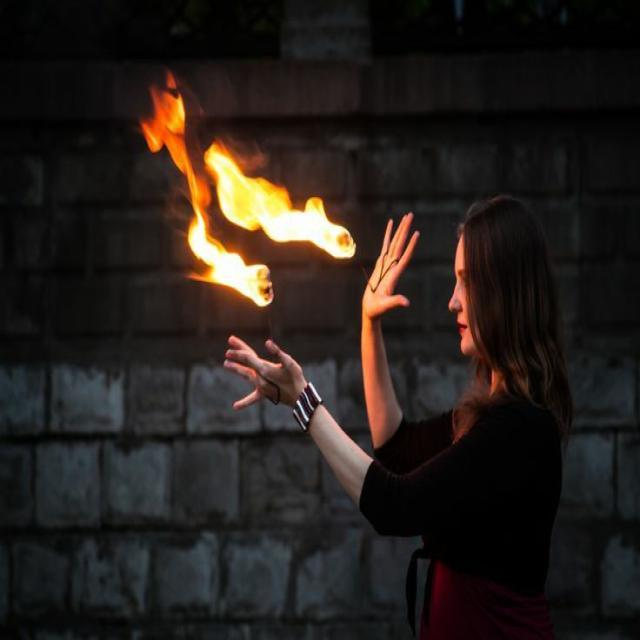Fire: (188, 142, 366, 308)
